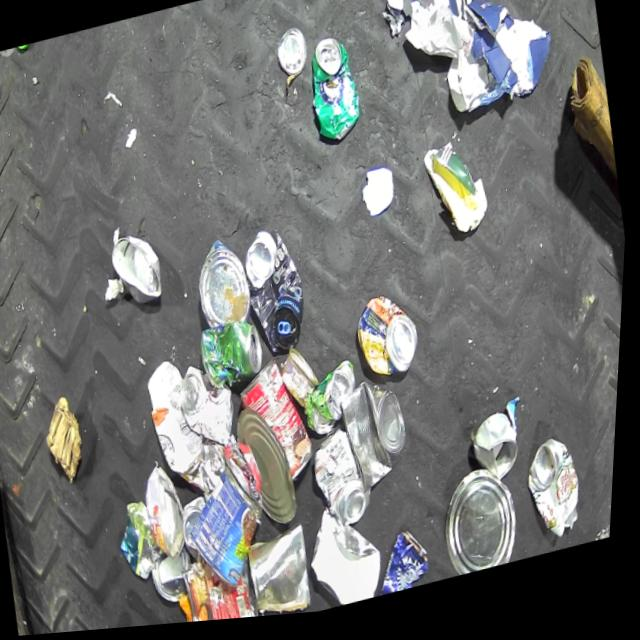can: (184, 461, 285, 604), (235, 357, 326, 498), (439, 467, 534, 587), (238, 226, 318, 364), (337, 378, 422, 504), (234, 404, 309, 539), (524, 441, 595, 554), (311, 428, 383, 539), (302, 35, 369, 151), (247, 525, 324, 623), (353, 294, 429, 390), (178, 359, 248, 460), (191, 237, 260, 336), (186, 554, 268, 626), (144, 462, 199, 569), (202, 318, 274, 396), (108, 226, 171, 312), (303, 363, 369, 445), (373, 530, 441, 604), (472, 418, 530, 495), (280, 347, 329, 417), (154, 548, 204, 612), (183, 497, 221, 567), (272, 29, 311, 84)
